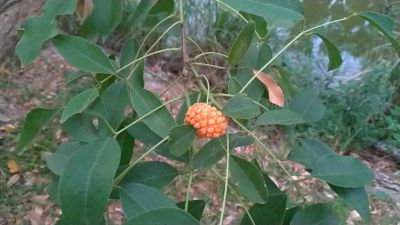eggs: (183, 98, 229, 142)
